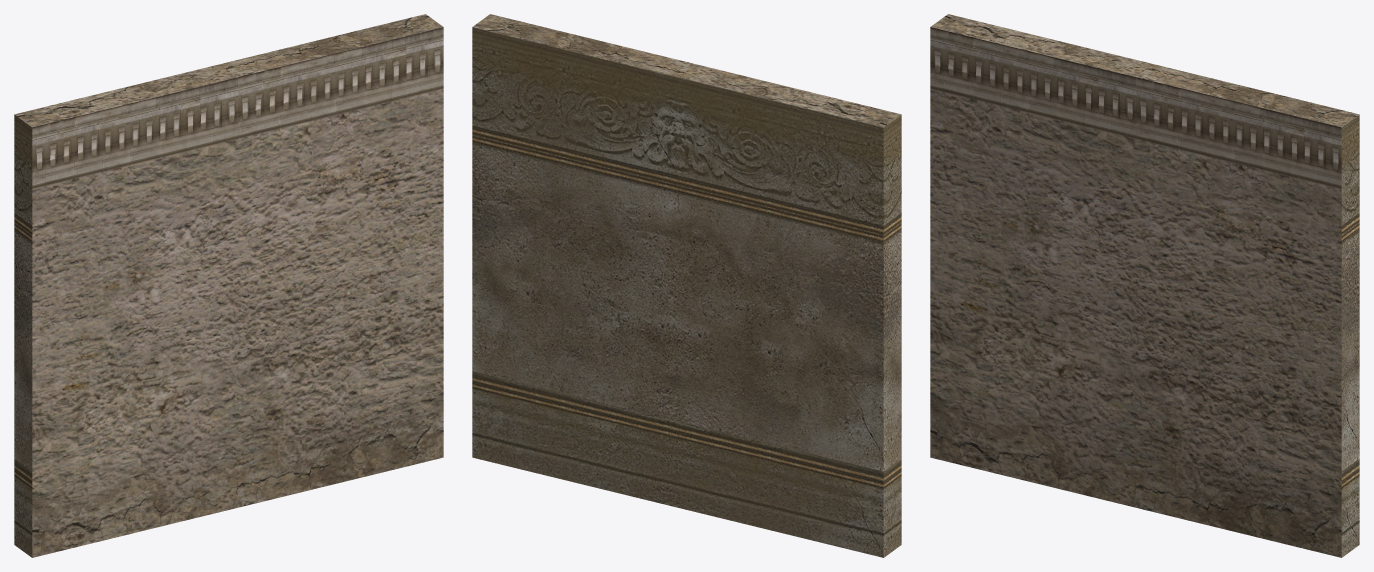
File: SH3D_Sparta_WallPlain.obj
3 views of the same model, side by side, from view 1: azimuth 30°, elevation 25°; view 2: azimuth 150°, elevation 25°; view 3: azimuth 330°, elevation 25° (orthographic).
Parts seen in each view (by area): view 1: SH3D_ExtWall0, SH3D_IntWall0; view 2: SH3D_IntWall0, SH3D_ExtWall0; view 3: SH3D_ExtWall0, SH3D_IntWall0.
Boxes of the visible parts, x1=… form: SH3D_ExtWall0: x1=15, y1=14, x2=443, y2=557; SH3D_IntWall0: x1=14, y1=114, x2=32, y2=557; SH3D_IntWall0: x1=472, y1=27, x2=901, y2=557; SH3D_ExtWall0: x1=473, y1=14, x2=900, y2=127; SH3D_ExtWall0: x1=930, y1=14, x2=1358, y2=557; SH3D_IntWall0: x1=1341, y1=114, x2=1359, y2=557.
Bounding box in the file's own units: 4 × 4 × 0.3.
